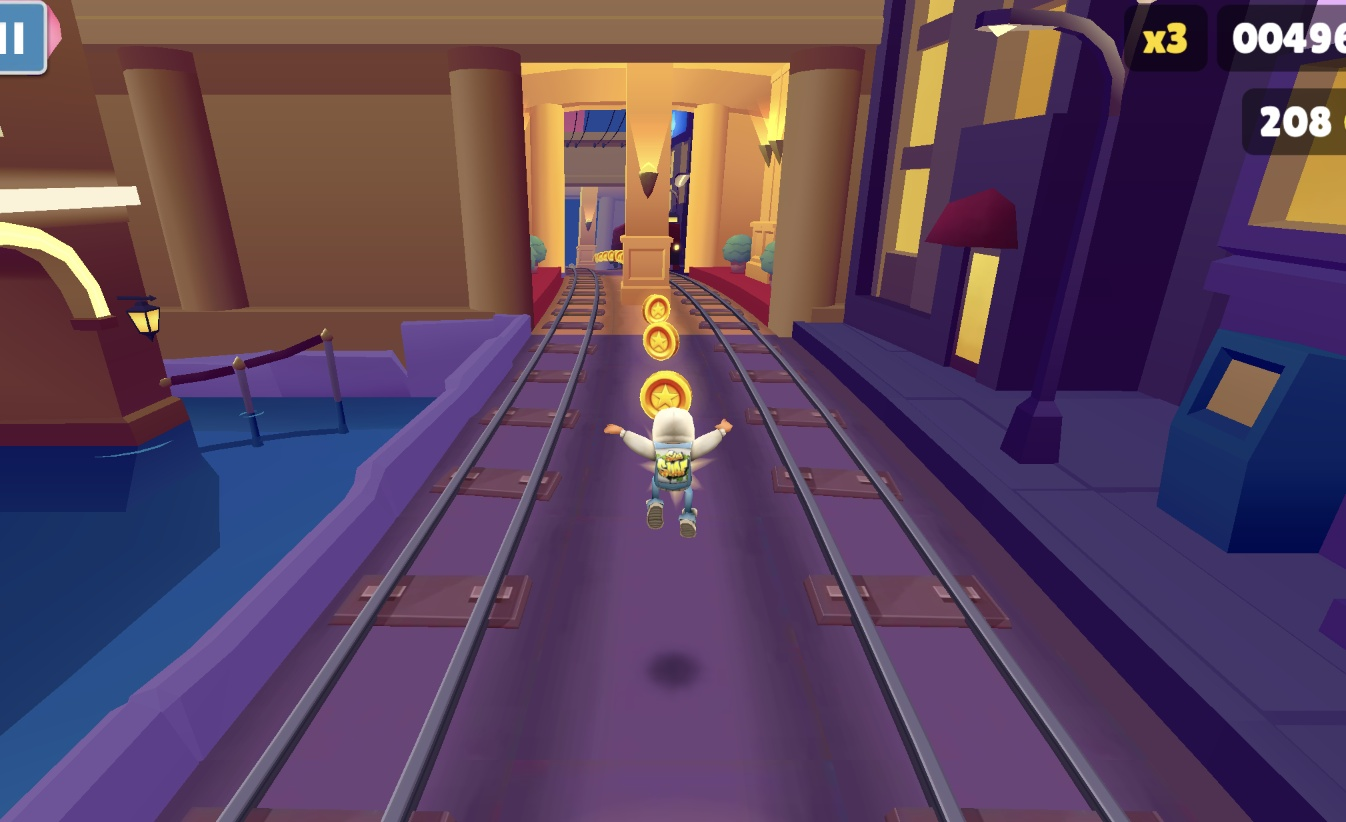pillar: (620, 61, 675, 307), (576, 185, 599, 267)
train: (673, 208, 691, 270)
